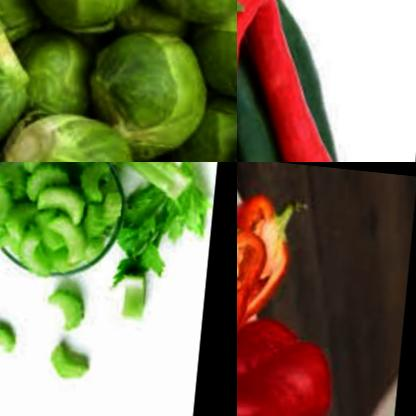bell pepper: (237, 302, 349, 416), (237, 180, 310, 323), (237, 192, 272, 416)
brus capusta: (0, 0, 237, 162)
celery: (0, 162, 130, 273), (118, 162, 219, 276), (46, 328, 98, 384), (114, 259, 152, 315), (49, 282, 93, 327), (0, 309, 24, 359)
hot pepper: (237, 0, 369, 162), (237, 0, 302, 162), (237, 0, 274, 162)
